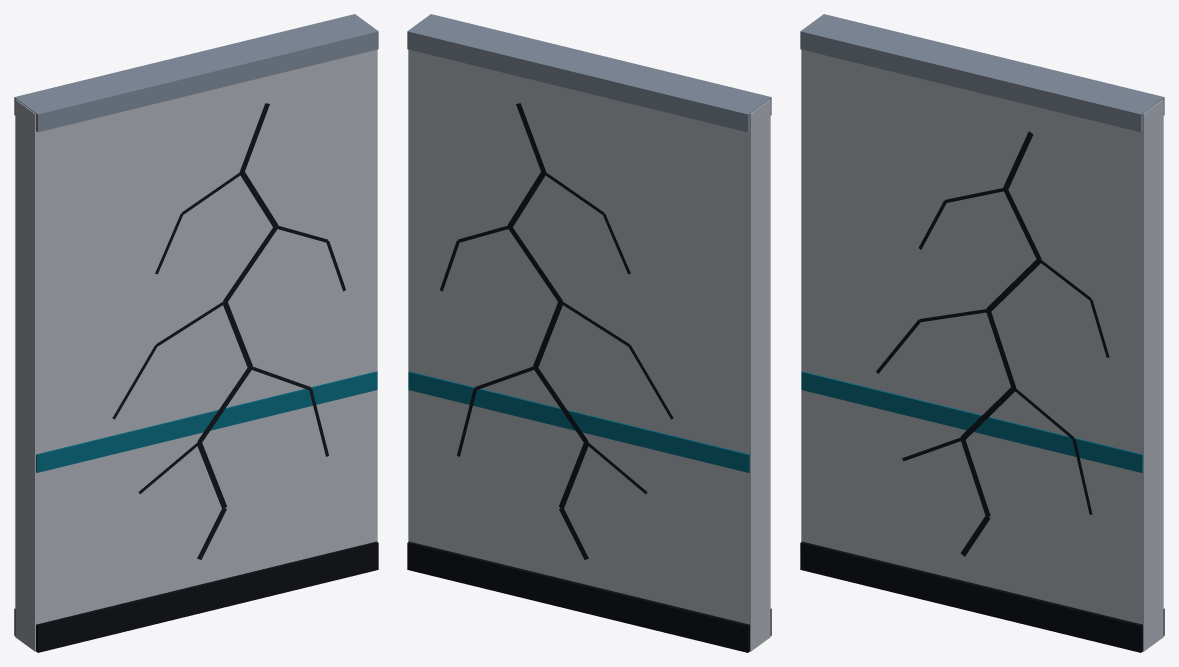
Rendered from SM_Wall_Breakable_2x3.glb.
3 views of the same model, side by side, from view 1: azimuth 30°, elevation 25°; view 2: azimuth 150°, elevation 25°; view 3: azimuth 330°, elevation 25° (orthographic).
Visible parts, largest first — view 1: SM_Wall_Breakable_2x3-col; view 2: SM_Wall_Breakable_2x3-col; view 3: SM_Wall_Breakable_2x3-col.
Part boxes in pixels (<box>): SM_Wall_Breakable_2x3-col: <box>14,14,378,652</box>; SM_Wall_Breakable_2x3-col: <box>407,14,771,652</box>; SM_Wall_Breakable_2x3-col: <box>800,14,1164,652</box>.
Size of the model in its own units: 2 by 3 by 0.24.
